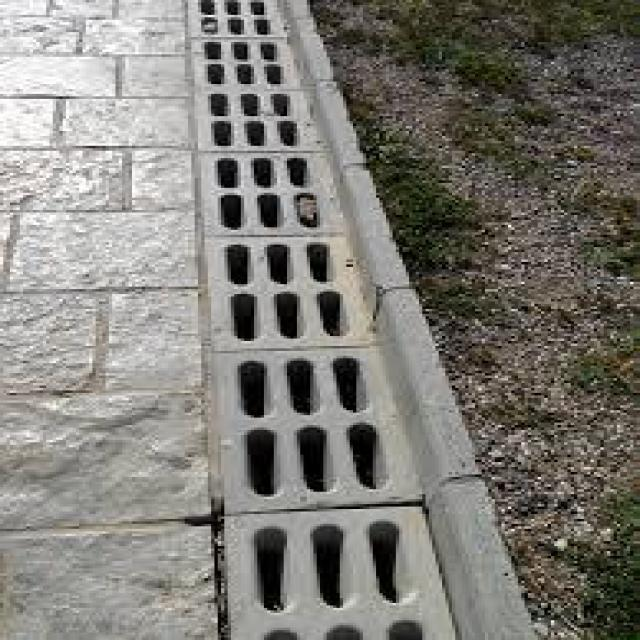curb: (402, 277, 539, 640), (283, 1, 364, 201), (342, 192, 397, 301)
